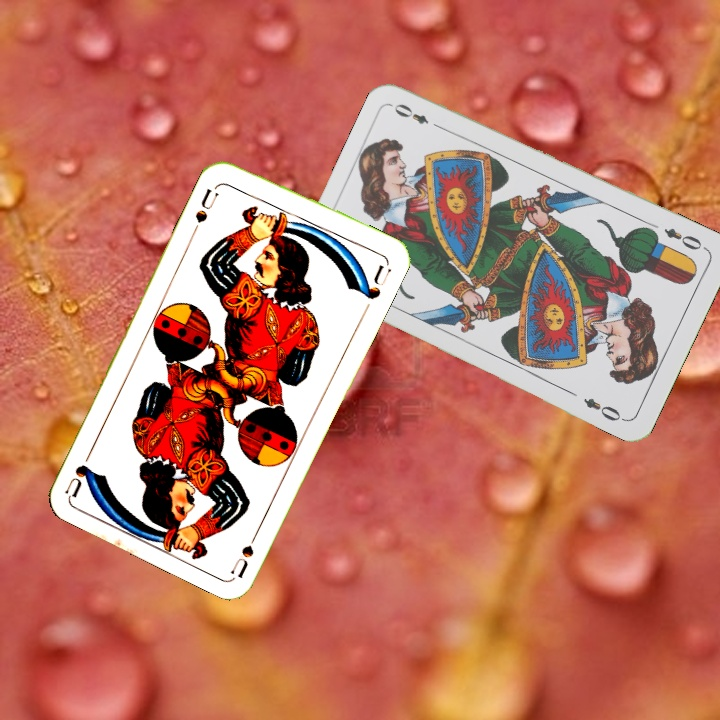EO: (660, 224, 709, 253)
SU: (227, 522, 264, 579), (191, 184, 222, 226)
